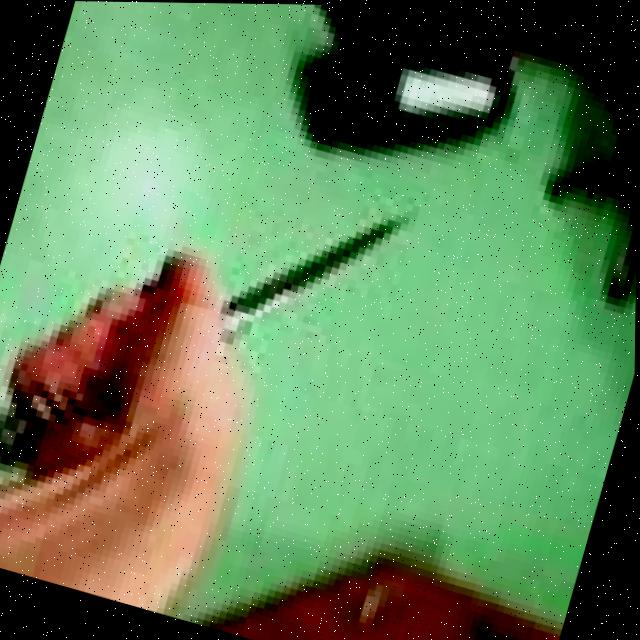knife: (223, 165, 417, 364)
